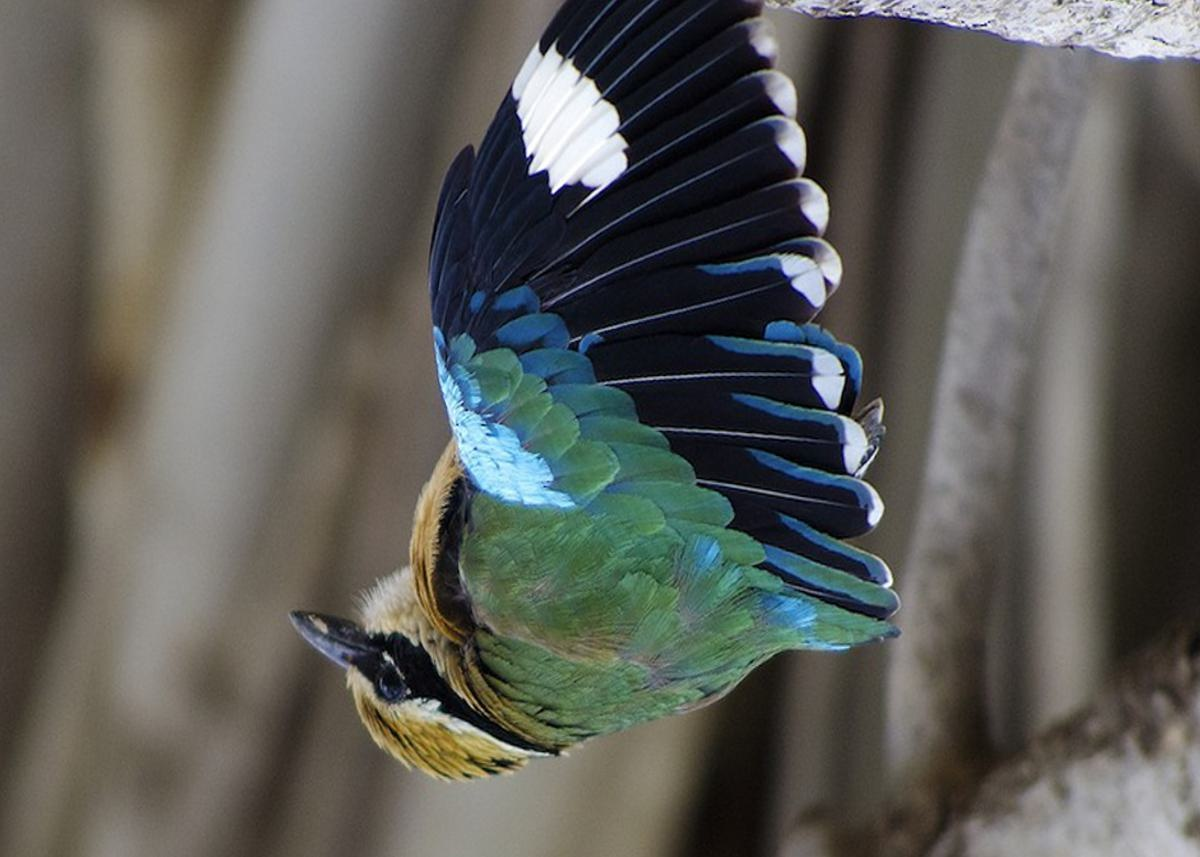pitta: (283, 35, 856, 795)
